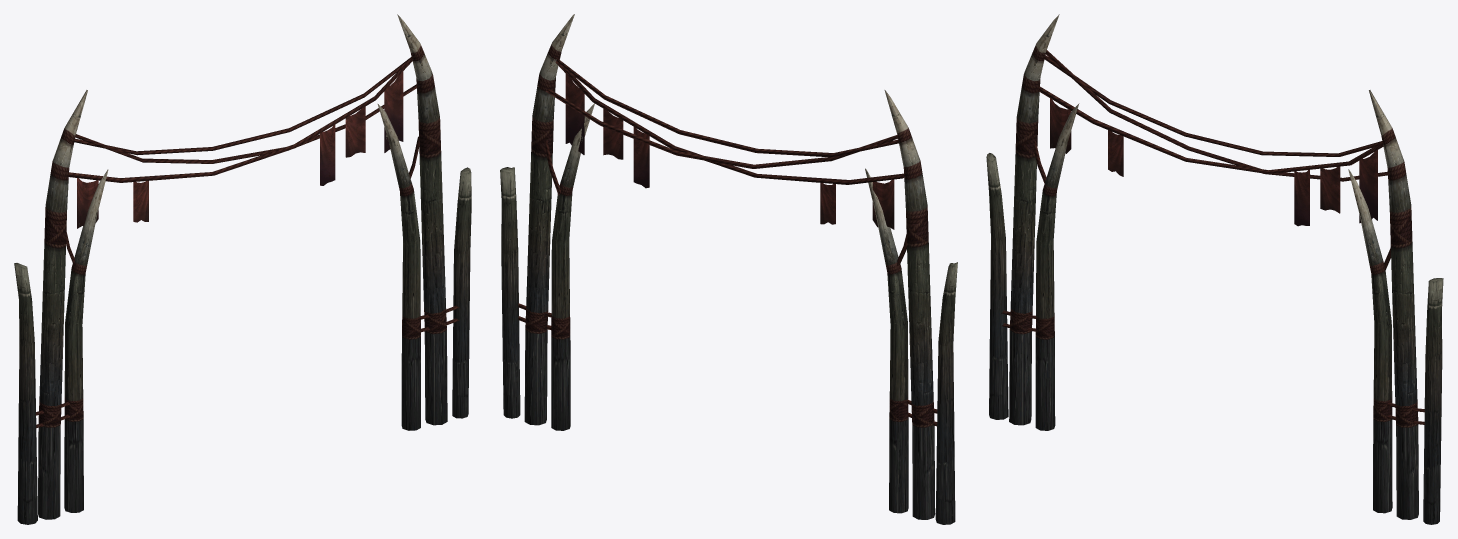
Rendered from camp_redthief_gate_00.fbx.
3 views of the same model, side by side, from view 1: azimuth 30°, elevation 25°; view 2: azimuth 150°, elevation 25°; view 3: azimuth 330°, elevation 25° (orthographic).
Parts seen in each view (by area): view 1: camp_redthief_gate; view 2: camp_redthief_gate; view 3: camp_redthief_gate.
Part boxes in pixels (left/top/right/bottom): camp_redthief_gate: left=14, top=14, right=471, bottom=524; camp_redthief_gate: left=500, top=14, right=957, bottom=524; camp_redthief_gate: left=986, top=14, right=1443, bottom=524.
Size of the model in its own units: 18.25 by 15.96 by 0.8043.
